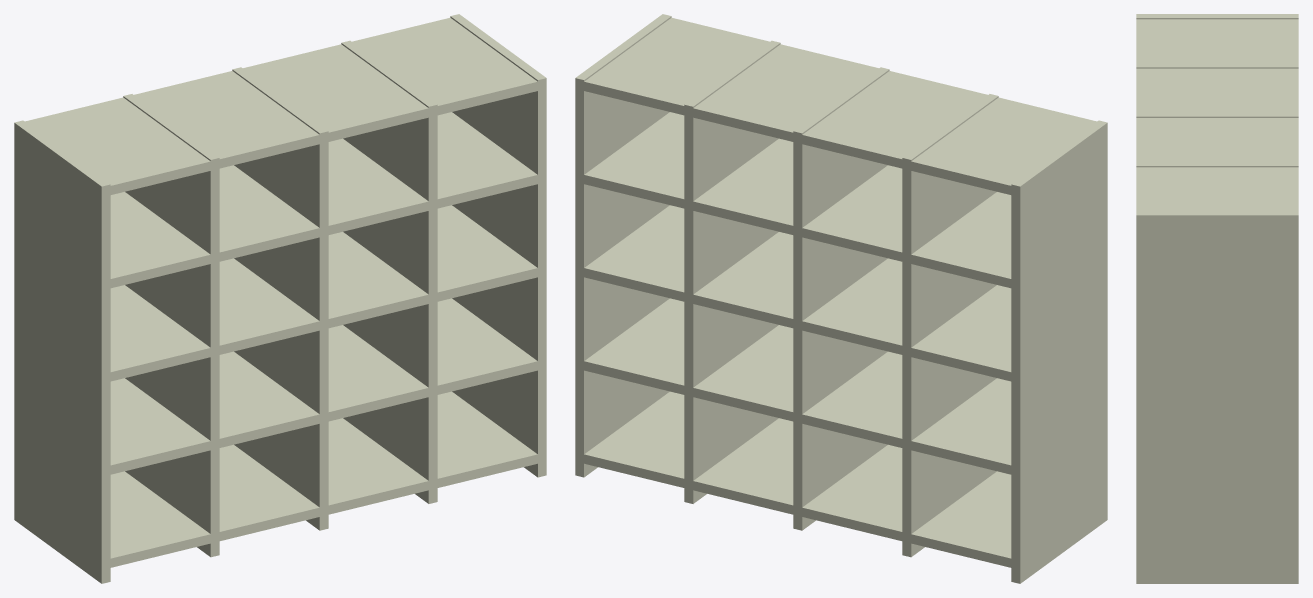
Rendered from 组装线_B1_机器16.fbx.
The picture shows the model from 3 angles, left to right: view 1: azimuth 30°, elevation 25°; view 2: azimuth 150°, elevation 25°; view 3: azimuth 270°, elevation 25°; orthographic projection. The views are drawn at different scales.
Visible parts, largest first — view 1: Box007; view 2: Box007; view 3: Box007.
Part boxes in pixels (left/top/right/bottom): Box007: left=14, top=14, right=546, bottom=583; Box007: left=575, top=14, right=1107, bottom=583; Box007: left=1136, top=14, right=1298, bottom=583.
Size of the model in its own units: 35.32 by 30.14 by 12.03.
